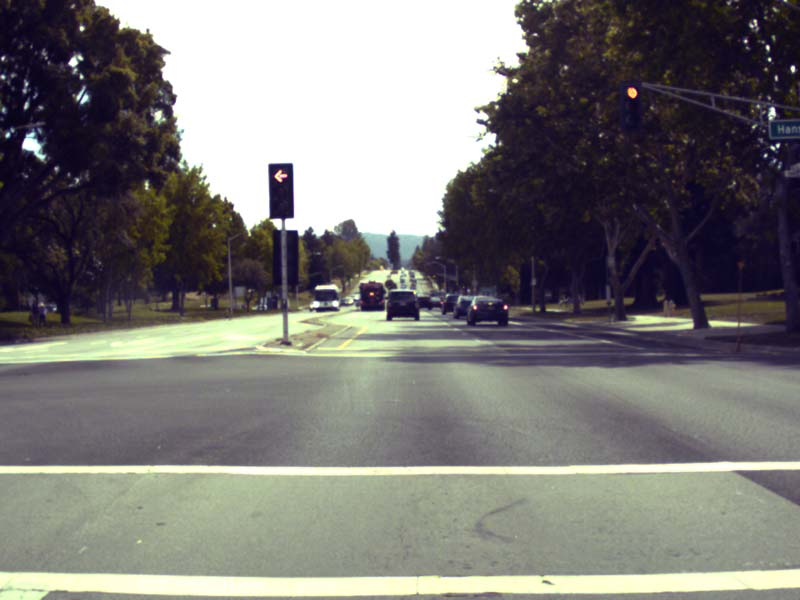Red: (268, 163, 292, 218), (620, 81, 641, 132)
